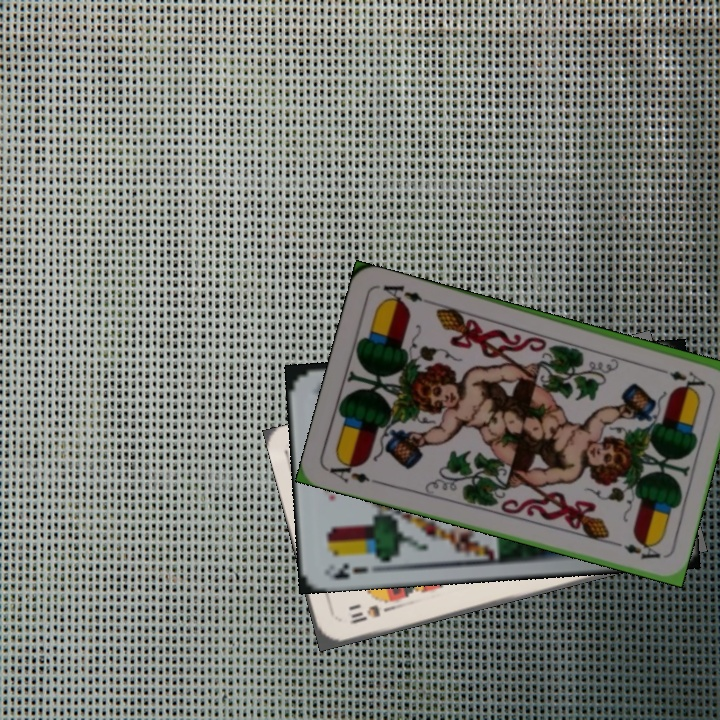EA: (325, 455, 383, 487), (653, 365, 709, 389)
EK: (324, 559, 370, 583)
S10: (346, 601, 396, 627)
